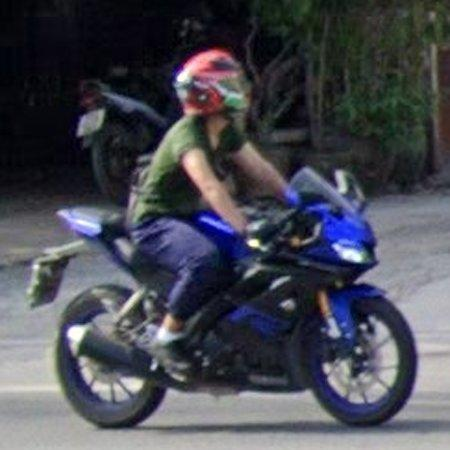motorcycles: (27, 168, 418, 429)
